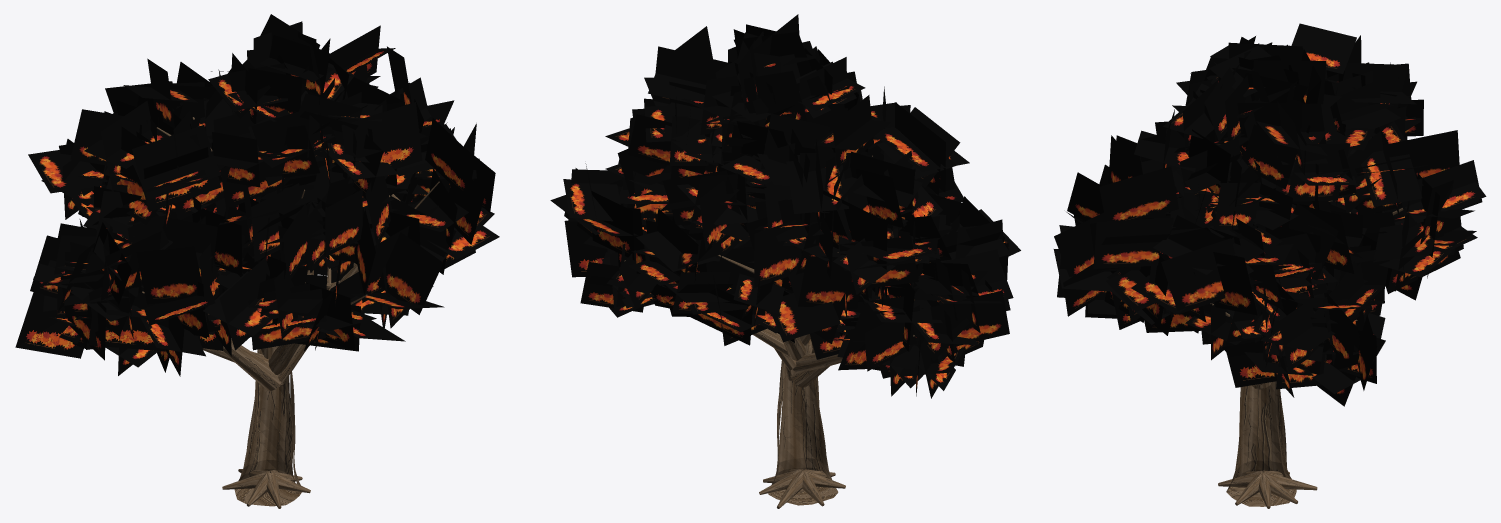
Rendered from maple.glb.
The picture shows the model from 3 angles, left to right: view 1: azimuth 30°, elevation 25°; view 2: azimuth 150°, elevation 25°; view 3: azimuth 270°, elevation 25°; orthographic projection. The views are drawn at different scales.
Parts seen in each view (by area): view 1: Trunk, Leaf_Cluster_0480, Leaf_Cluster_0021, Leaf_Cluster_0619, Leaf_Cluster_0326, Leaf_Cluster_0953, Leaf_Cluster_0879, Leaf_Cluster_0300, Leaf_Cluster_0541, Leaf_Cluster_0804, Leaf_Cluster_0554, Leaf_Cluster_0318 (+64 smaller); view 2: Trunk, Leaf_Cluster_1009, Leaf_Cluster_0658, Leaf_Cluster_0823, Leaf_Cluster_0791, Leaf_Cluster_0738, Leaf_Cluster_0683, Leaf_Cluster_0487, Leaf_Cluster_1154, Leaf_Cluster_1020, Leaf_Cluster_1114, Leaf_Cluster_0463 (+66 smaller); view 3: Trunk, Leaf_Cluster_0879, Leaf_Cluster_0907, Leaf_Cluster_0859, Leaf_Cluster_0635, Leaf_Cluster_0727, Leaf_Cluster_0465, Leaf_Cluster_0513, Leaf_Cluster_0384, Leaf_Cluster_0153, Leaf_Cluster_0619, Leaf_Cluster_0515 (+70 smaller).
Boxes of the visible parts, x1,y1,x2,y2 form: Trunk: [234, 349, 301, 506]; Leaf_Cluster_0480: [341, 102, 422, 183]; Leaf_Cluster_0021: [137, 246, 201, 304]; Leaf_Cluster_0619: [377, 232, 443, 314]; Leaf_Cluster_0326: [132, 125, 221, 211]; Leaf_Cluster_0953: [15, 292, 83, 358]; Leaf_Cluster_0879: [425, 118, 475, 199]; Leaf_Cluster_0300: [251, 183, 300, 261]; Leaf_Cluster_0541: [325, 189, 362, 257]; Leaf_Cluster_0804: [28, 150, 104, 193]; Leaf_Cluster_0554: [219, 257, 269, 350]; Leaf_Cluster_0318: [212, 132, 260, 187]; Trunk: [768, 338, 838, 505]; Leaf_Cluster_1009: [930, 290, 1009, 348]; Leaf_Cluster_0658: [754, 219, 801, 287]; Leaf_Cluster_0823: [798, 256, 859, 308]; Leaf_Cluster_0791: [786, 161, 848, 213]; Leaf_Cluster_0738: [820, 191, 887, 273]; Leaf_Cluster_0683: [771, 293, 840, 342]; Leaf_Cluster_0487: [652, 46, 729, 104]; Leaf_Cluster_1154: [743, 71, 807, 127]; Leaf_Cluster_1020: [864, 305, 919, 371]; Leaf_Cluster_1114: [563, 179, 620, 221]; Leaf_Cluster_0463: [628, 114, 710, 174]; Trunk: [1226, 381, 1296, 506]; Leaf_Cluster_0879: [1099, 166, 1178, 221]; Leaf_Cluster_0907: [1161, 238, 1235, 313]; Leaf_Cluster_0859: [1093, 217, 1173, 268]; Leaf_Cluster_0635: [1361, 150, 1422, 206]; Leaf_Cluster_0727: [1384, 130, 1459, 177]; Leaf_Cluster_0465: [1288, 143, 1350, 201]; Leaf_Cluster_0513: [1243, 124, 1297, 189]; Leaf_Cluster_0384: [1291, 23, 1356, 73]; Leaf_Cluster_0153: [1213, 252, 1257, 315]; Leaf_Cluster_0619: [1054, 212, 1105, 276]; Leaf_Cluster_0515: [1213, 182, 1260, 229].
Bounding box in the file's own units: 10.25 × 9.66 × 8.22.
2 materials, 2 textured.
